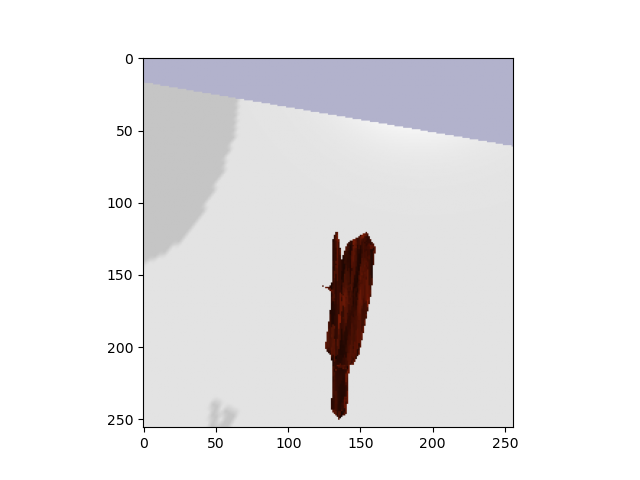v249b387_107: (309, 228, 391, 426)
